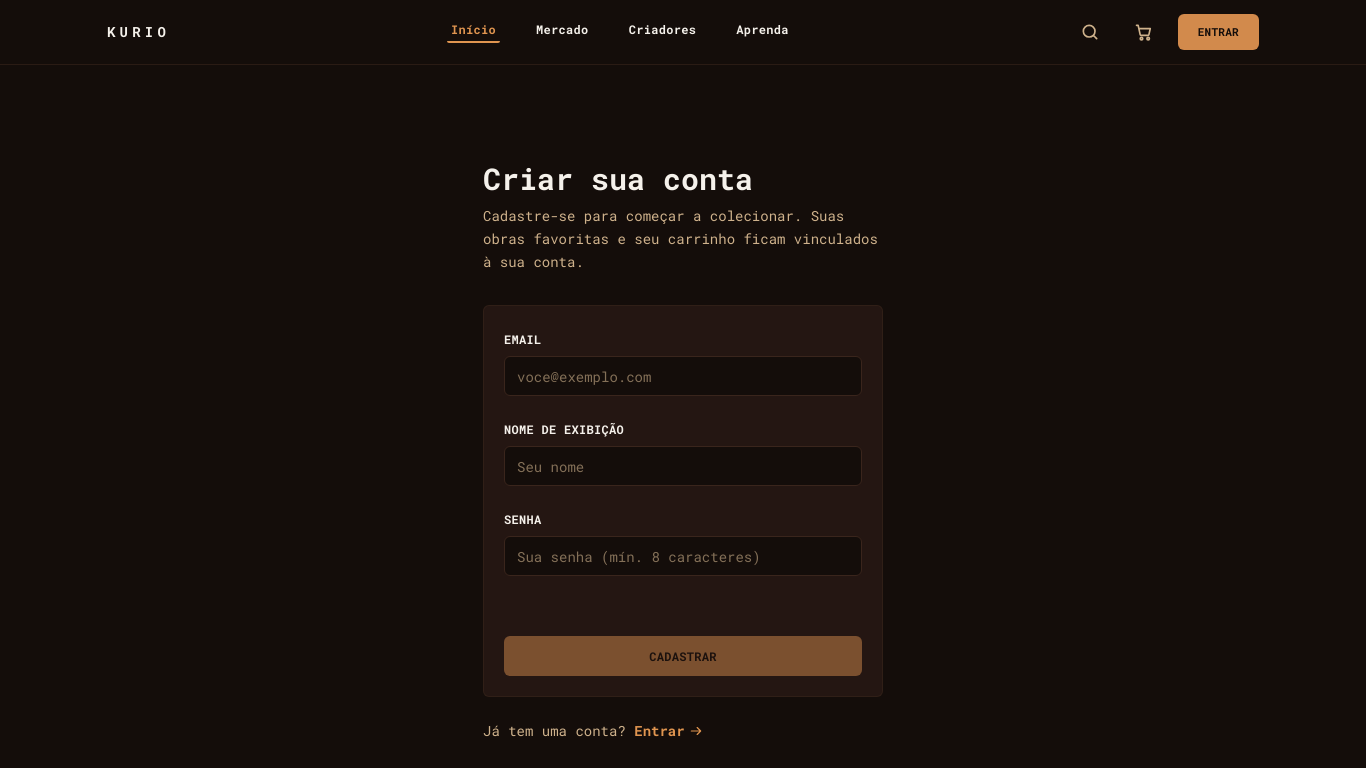
register page › displays validation errors for invalid email, short name, short password
Expected: the heading "Criar sua conta" is shown, [483,159,753,198]
In the field labelled "Email": (683, 376) [504,356,862,396], type "invalid-email"
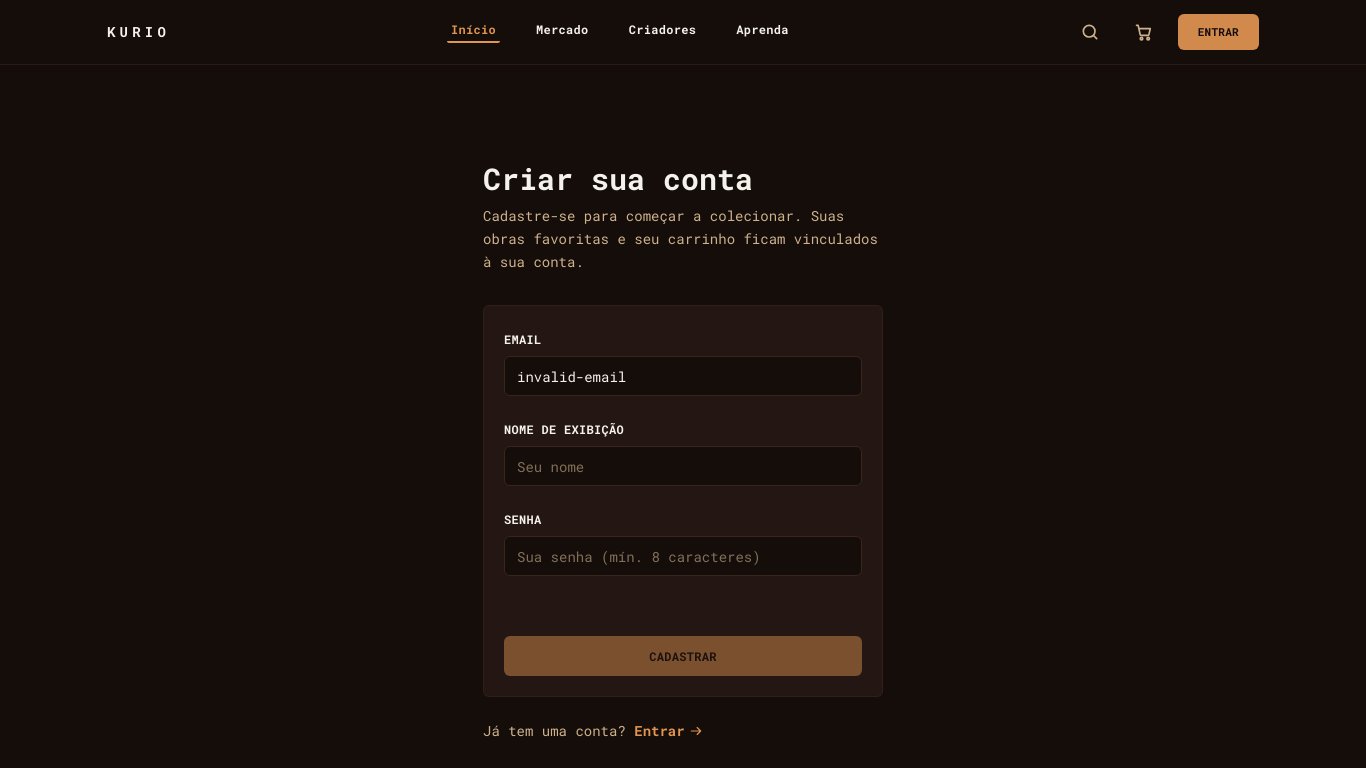
In the field labelled "Nome de exibição": (683, 466) [504,446,862,486], type "A"
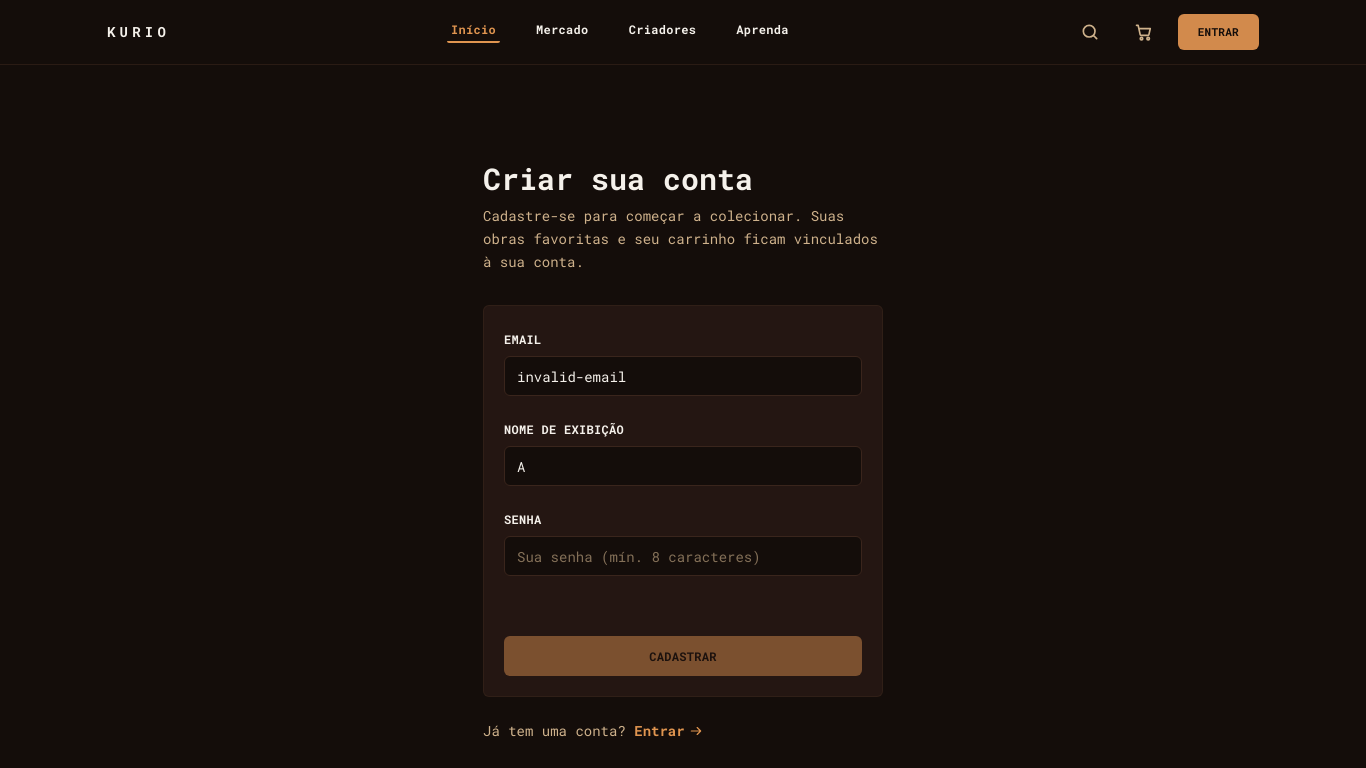
In the password field labelled "Senha": (683, 556) [504,536,862,576], type "short"
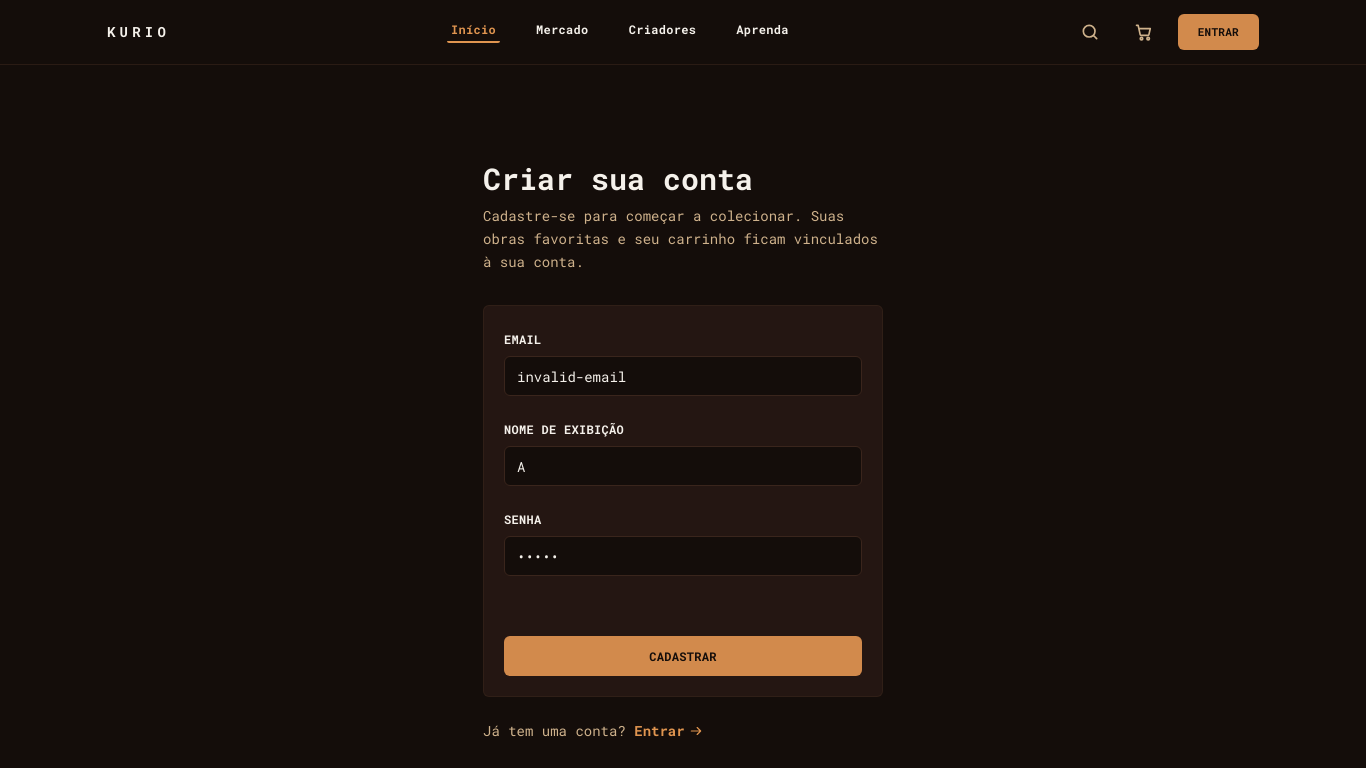
Click the button "Cadastrar": (683, 656) [504,636,862,676]
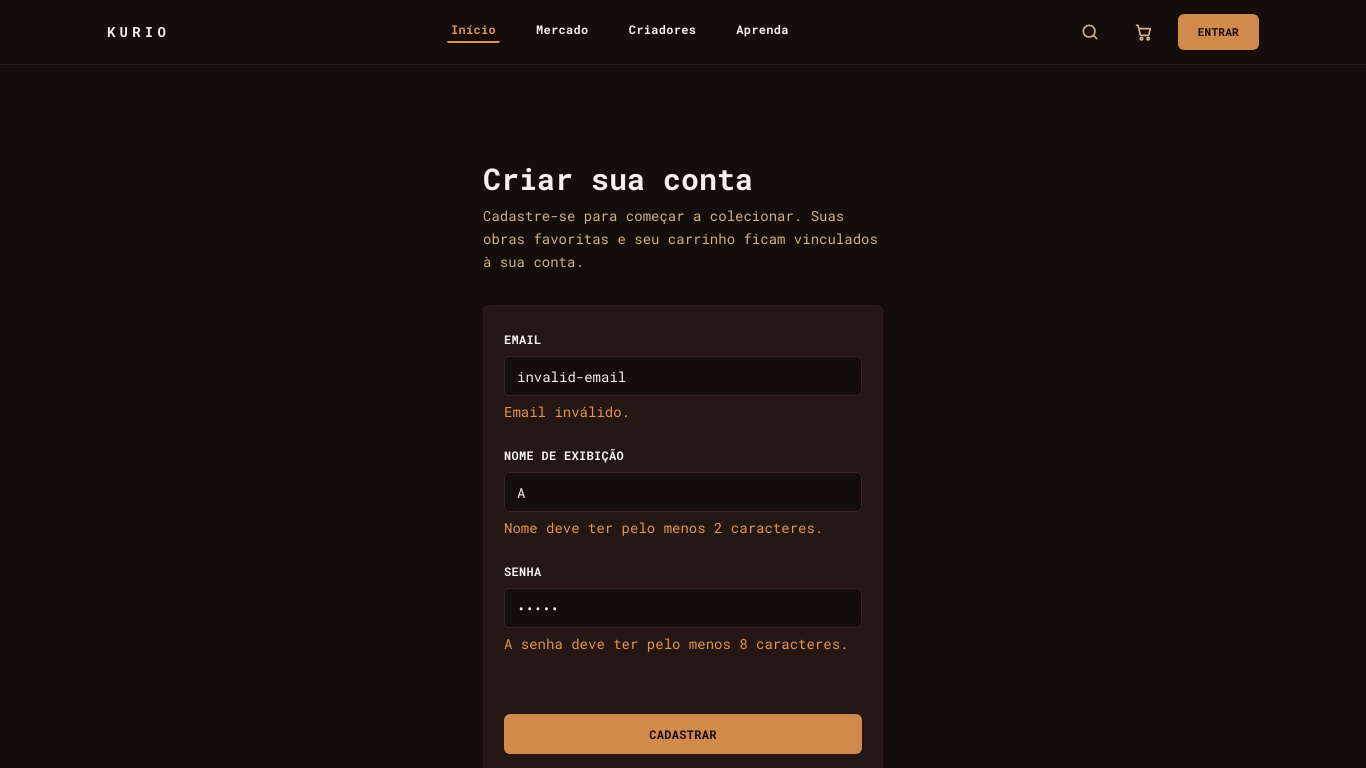
Now the text "Email inválido." is shown, box [504,402,630,421]
Now the text "Nome deve ter pelo menos 2 caracteres." is shown, box [504,518,862,538]
Now the text "A senha deve ter pelo menos 8 caracteres." is shown, box [504,634,862,654]
